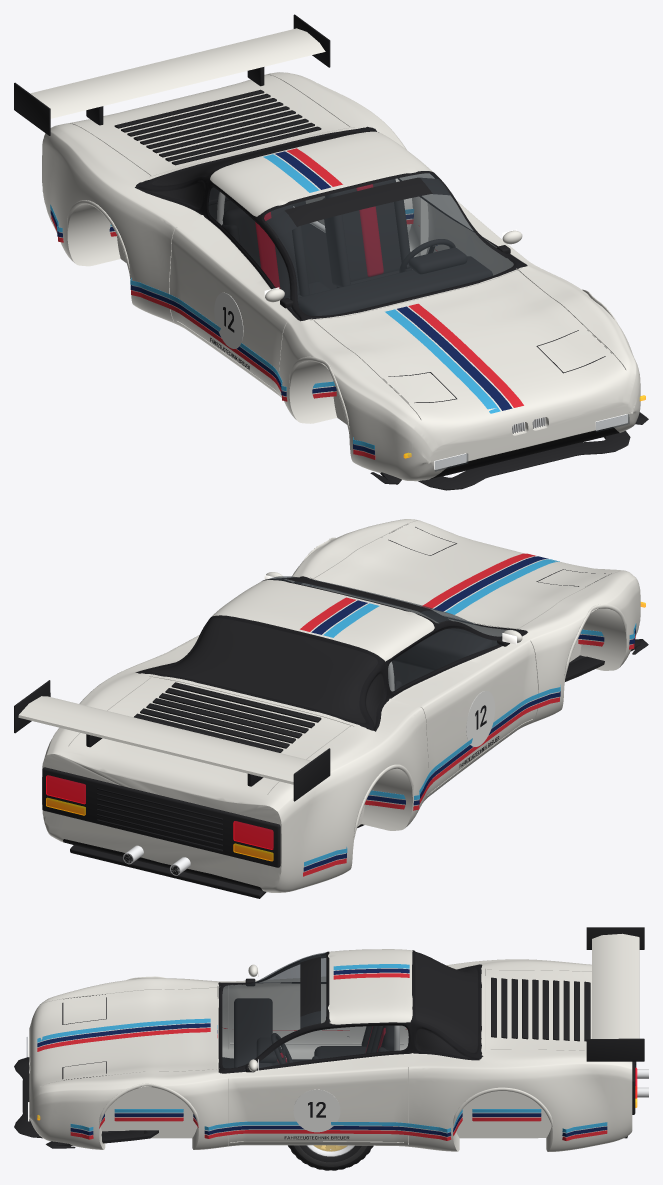
3 views of the same model, one above another, from view 1: azimuth 30°, elevation 25°; view 2: azimuth 150°, elevation 25°; view 3: azimuth 270°, elevation 25° (orthographic). The views are drawn at different scales.
Parts seen in each view (by area): view 1: body; view 2: body; view 3: body, wheel.
Part boxes in pixels (box(x1,y1,x2,y2)): body: box(14, 14, 648, 490); body: box(14, 519, 648, 898); body: box(14, 927, 648, 1151); wheel: box(288, 1145, 373, 1170).
Size of the model in its own units: 1.98 by 1.48 by 4.59.
